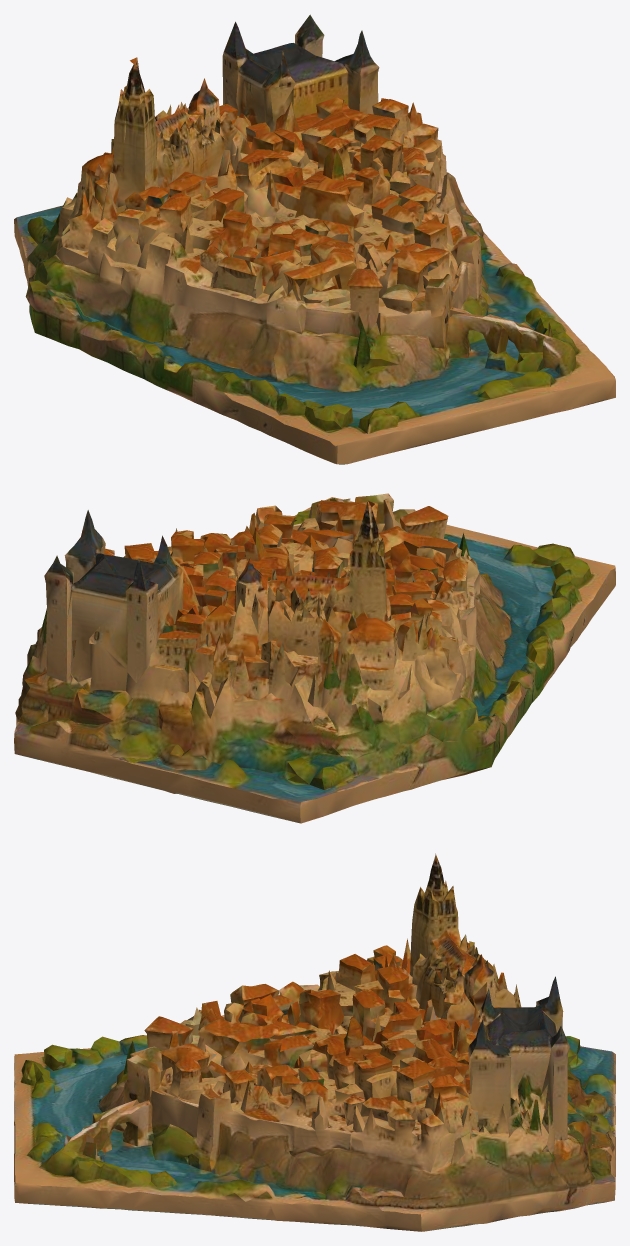
File: toledo-cathedral.glb
3 renders of one model, top to bottom at view 1: azimuth 30°, elevation 25°; view 2: azimuth 150°, elevation 25°; view 3: azimuth 270°, elevation 25°, orthographic. The views are drawn at different scales.
Visible parts, largest first — view 1: logan-textured.obj; view 2: logan-textured.obj; view 3: logan-textured.obj.
Boxes of the visible parts, bbox=[...] form: logan-textured.obj: bbox=[14, 14, 615, 464]; logan-textured.obj: bbox=[14, 493, 615, 823]; logan-textured.obj: bbox=[14, 853, 615, 1231].
Size of the model in its own units: 0.7926 by 0.4228 by 1.
1 material, 1 textured.
